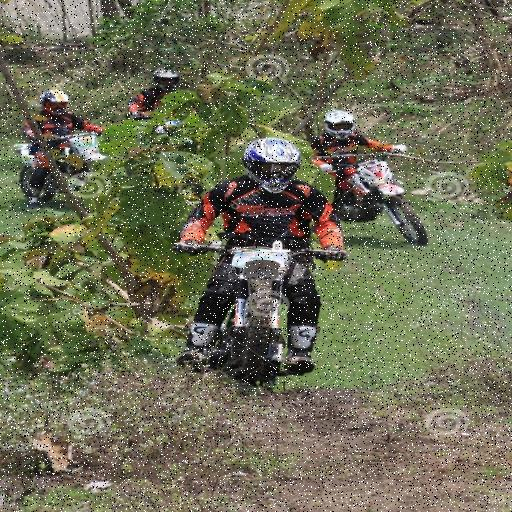Helmet: (243, 138, 301, 192), (324, 110, 355, 138), (40, 90, 69, 115), (153, 68, 179, 91)
Motor: (190, 235, 336, 398), (321, 146, 432, 243), (10, 125, 126, 214)
